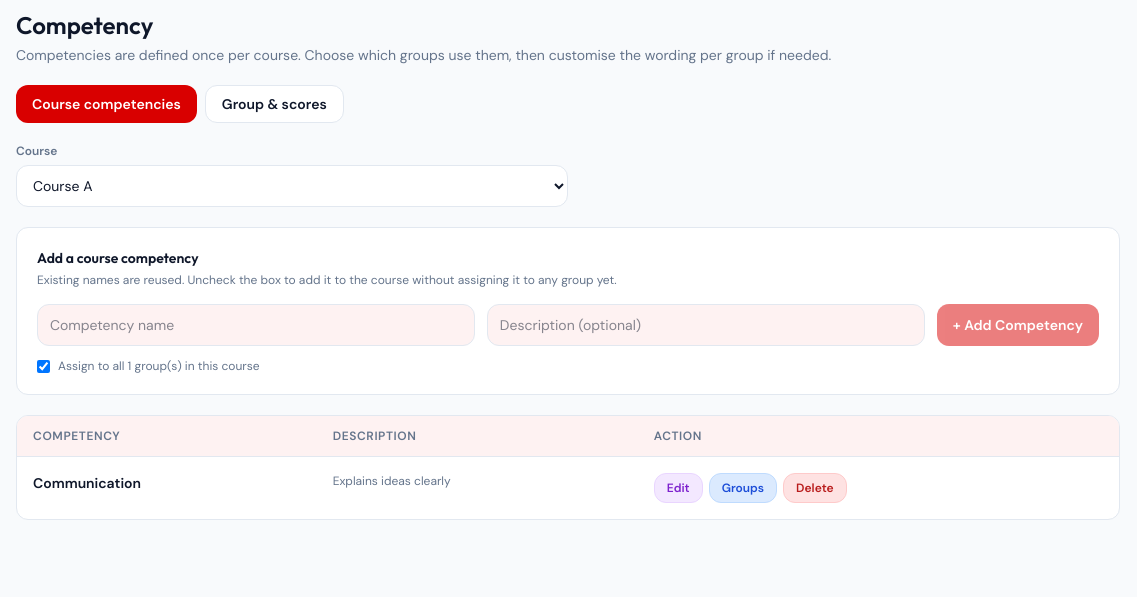
it: TeacherCompetency - current UI › deletes a course competency after confirmation
What coordinates should you click on to do the following:
click the button "Delete"
I would click on:
 (815, 488)
Its box is x1=783 y1=473 x2=847 y2=503.
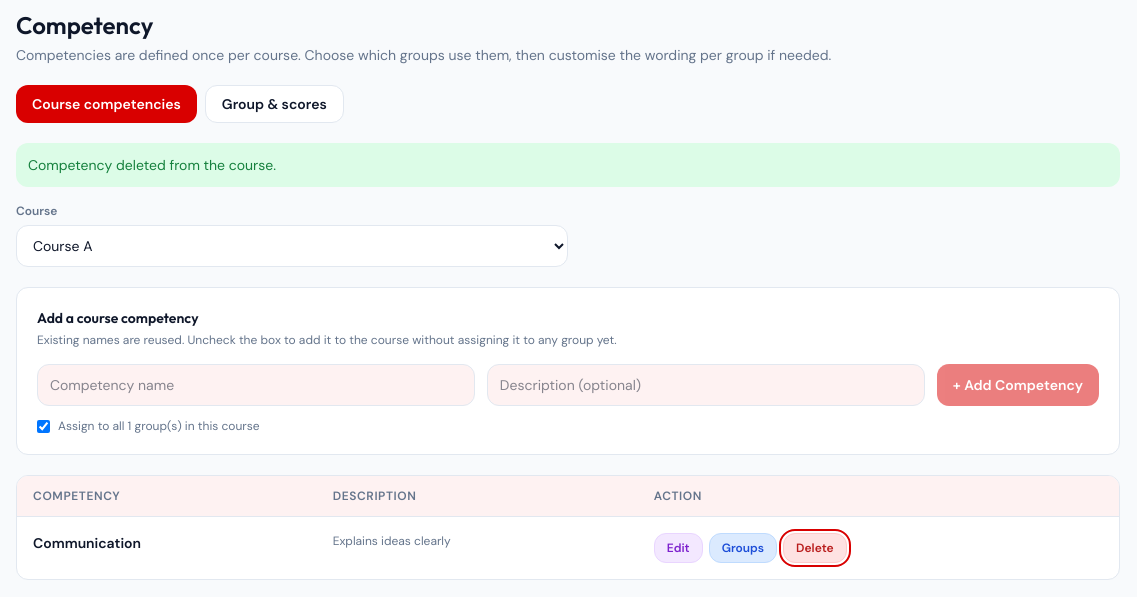
Now the text "Competency deleted from the course." is shown, box x1=16 y1=143 x2=1120 y2=187
